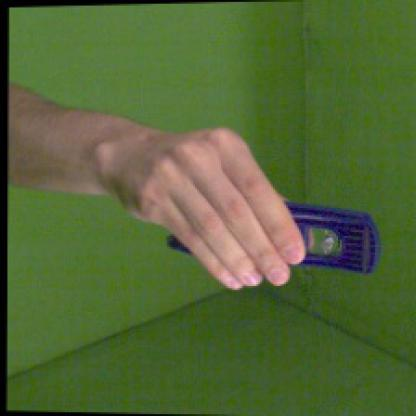Hand: (118, 124, 306, 290)
